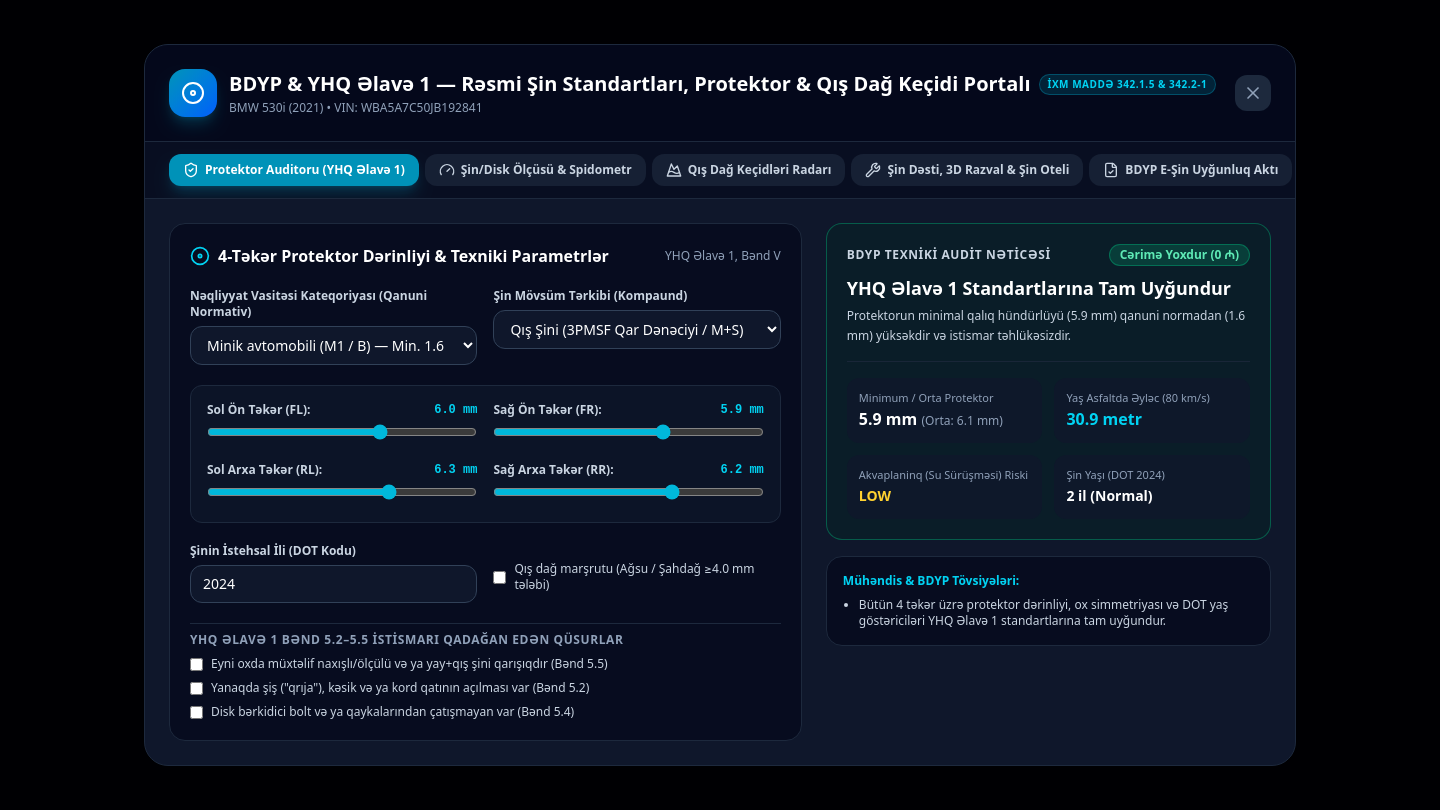
Test: TireComplianceModal component › switches to Tire & Rim Size Equivalence tab and calculates diameter and speedometer deviation
Step 1. Click the button with test id "tab-size-calculator" → (535, 170), box [425,154,646,186]
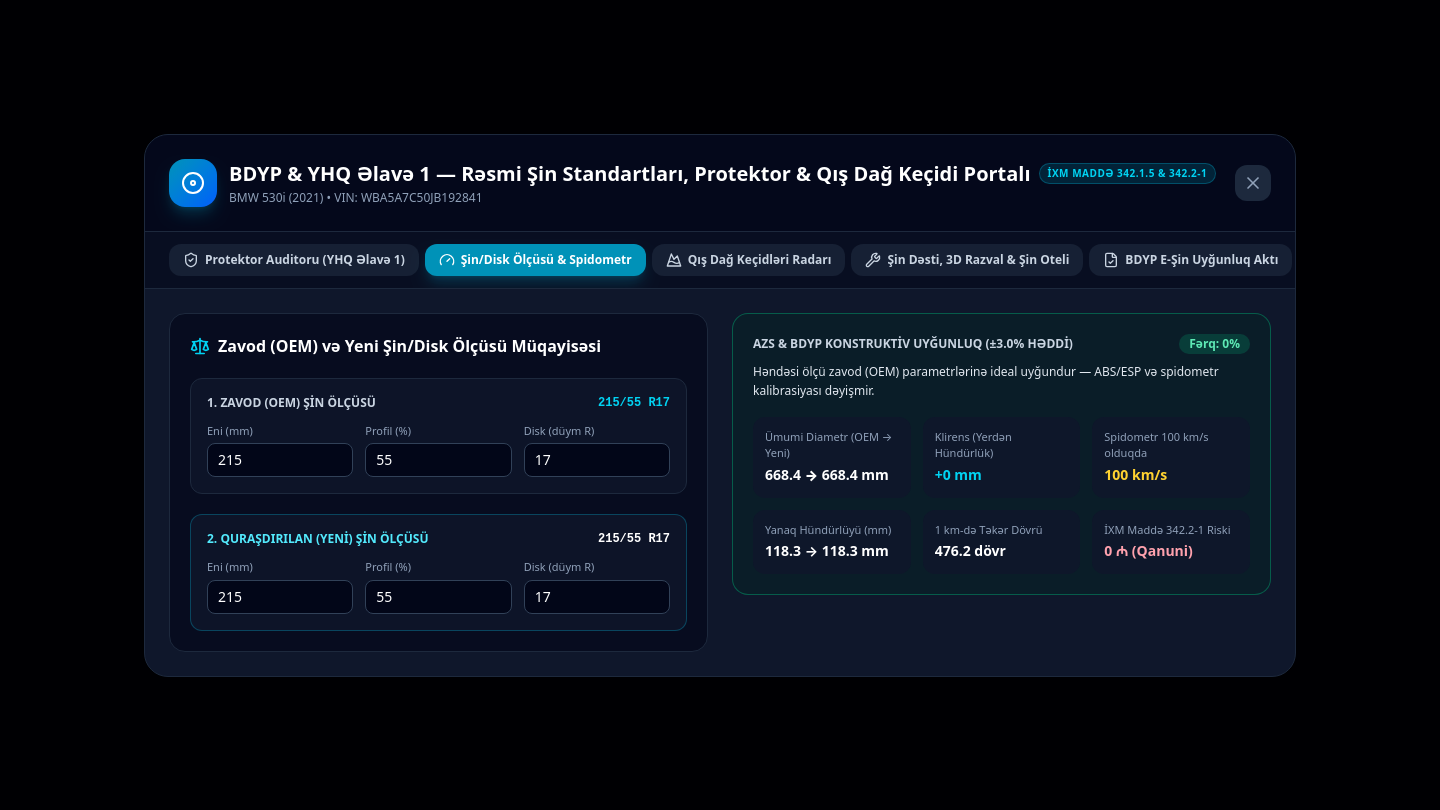
Result: the element with test id "size-calculator-panel" is shown at [169,312,1271,652]
Step 2. Replace the text in the number field with test id "input-target-rim" with "22" → (597, 596), box [524,580,670,614]
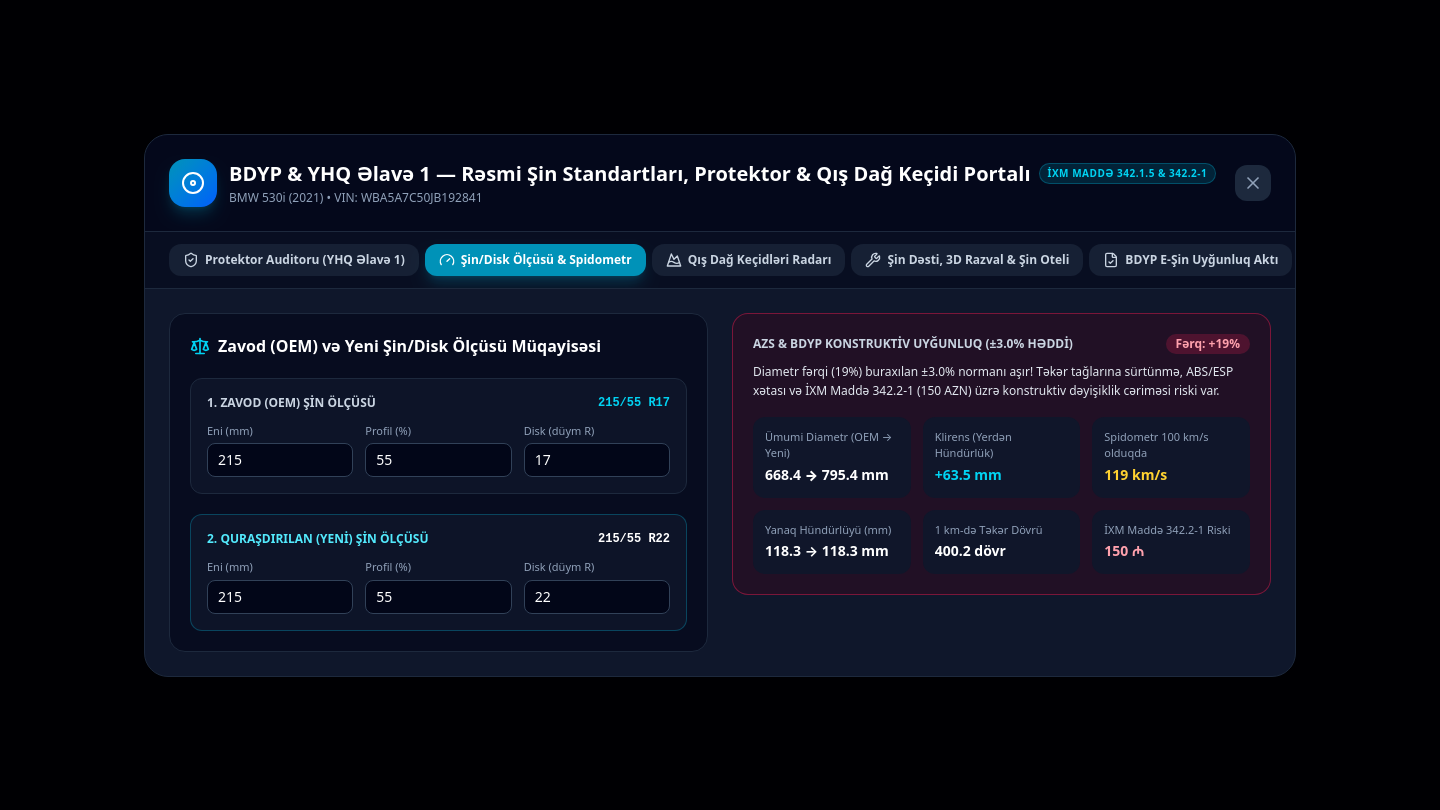
Result: the text with test id "equivalence-summary" shows "342.2-1" at [753,362,1233,399]
